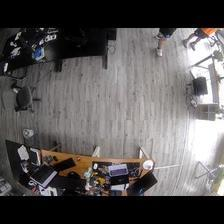normal: (153, 27, 176, 58), (181, 29, 216, 49)
